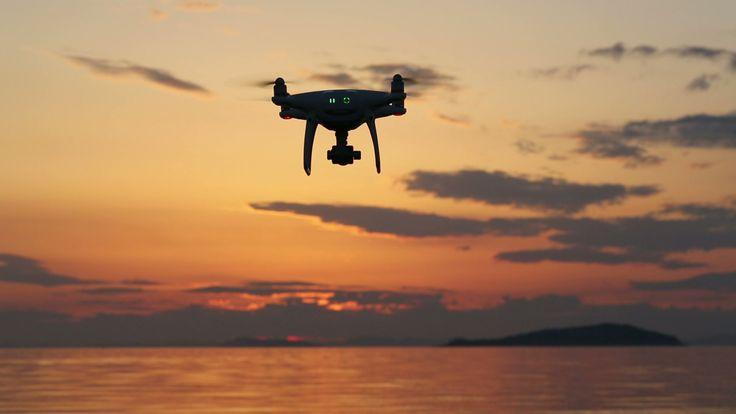drone_other: (252, 73, 420, 175)
